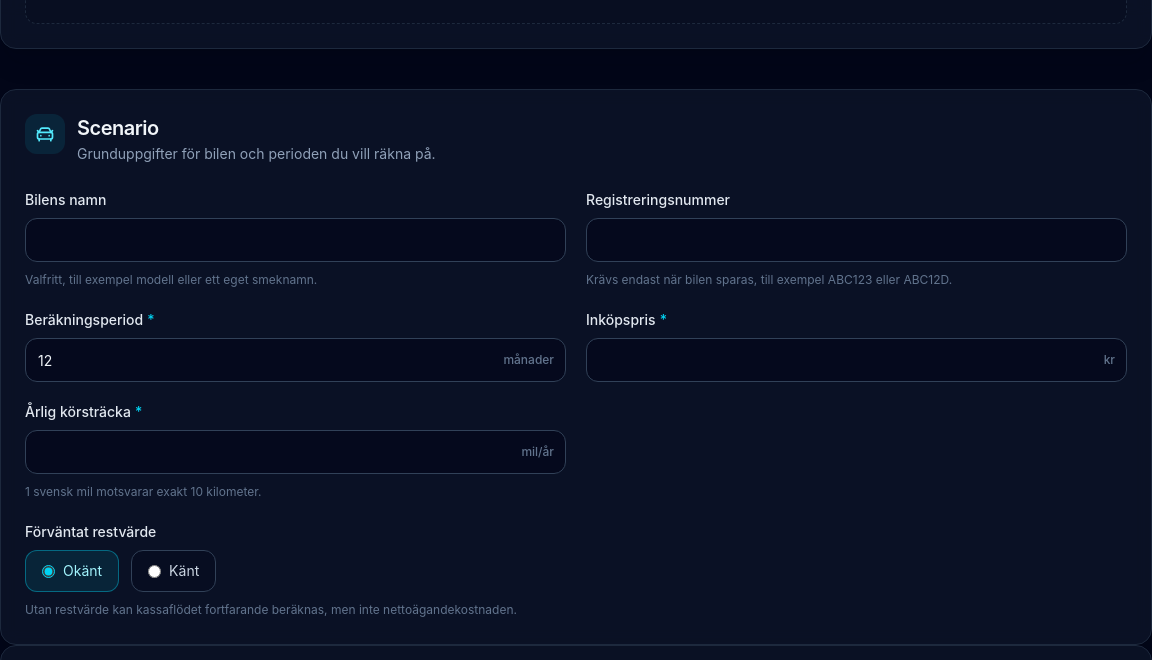
Test case: ManualCalculatorPage › sends explicit nulls and renders incomplete known subtotals
(page scrolled)
Step 1. Type "20000" into the field labelled "Inköpspris*" → [856, 360], box [586,338,1127,382]
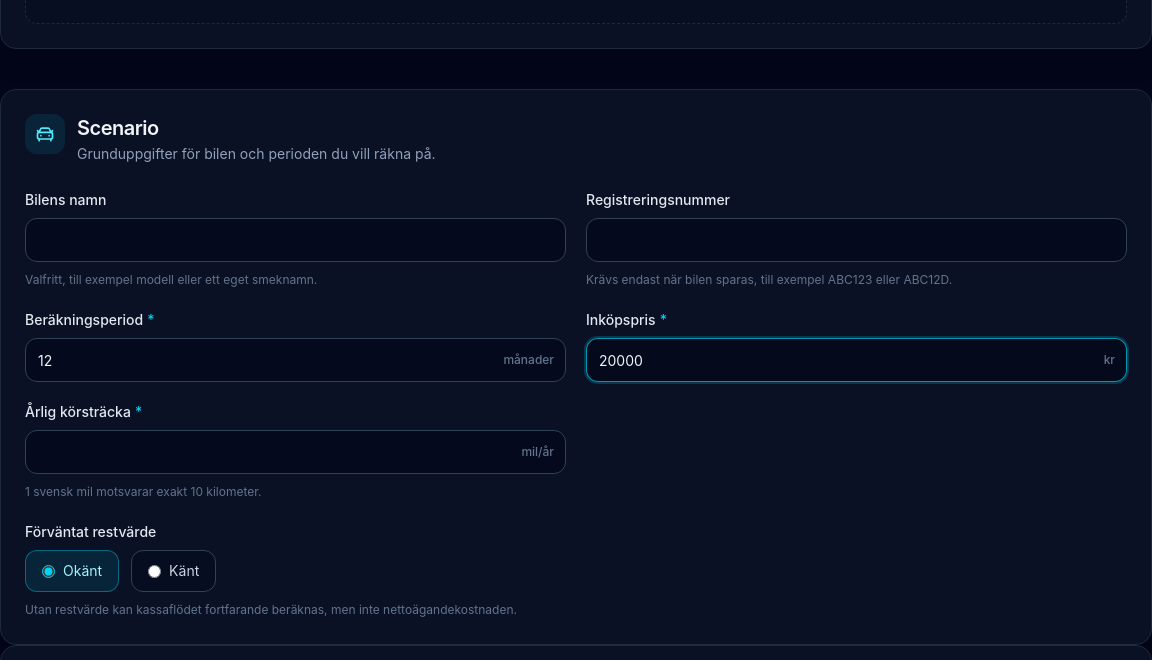
Step 2. Type "0" into the field labelled "Årlig körsträcka*" → [296, 452], box [25,430,566,474]
(page scrolled)
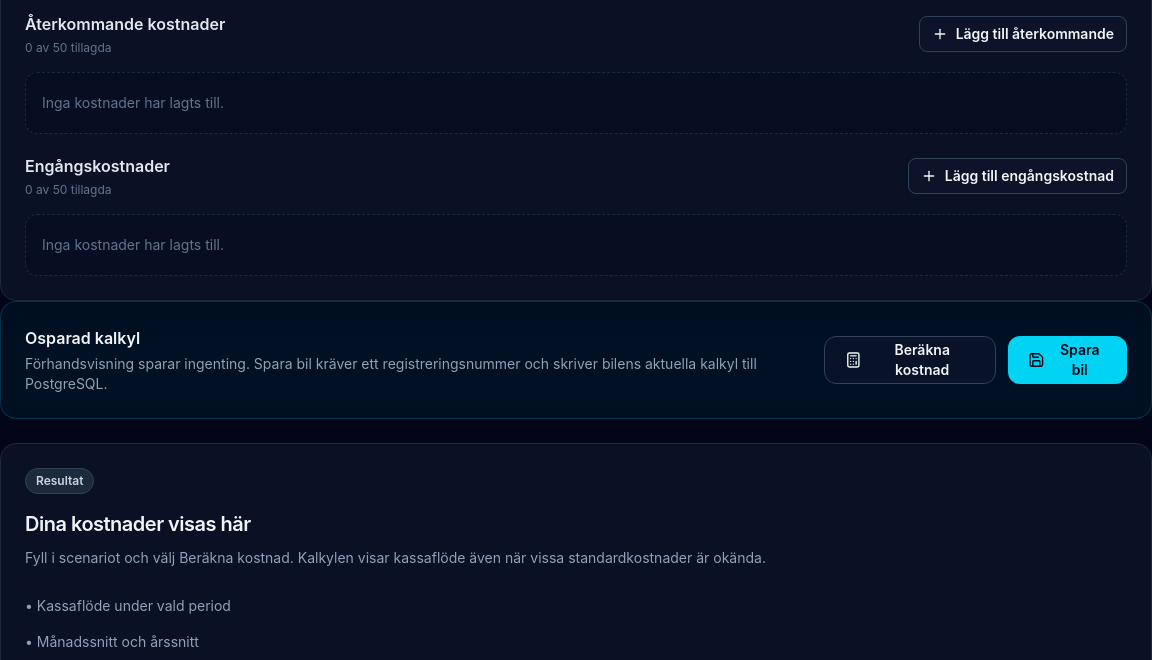
Step 3. Click the button "Beräkna kostnad" → [910, 360], box [824,336,996,384]
(page scrolled)
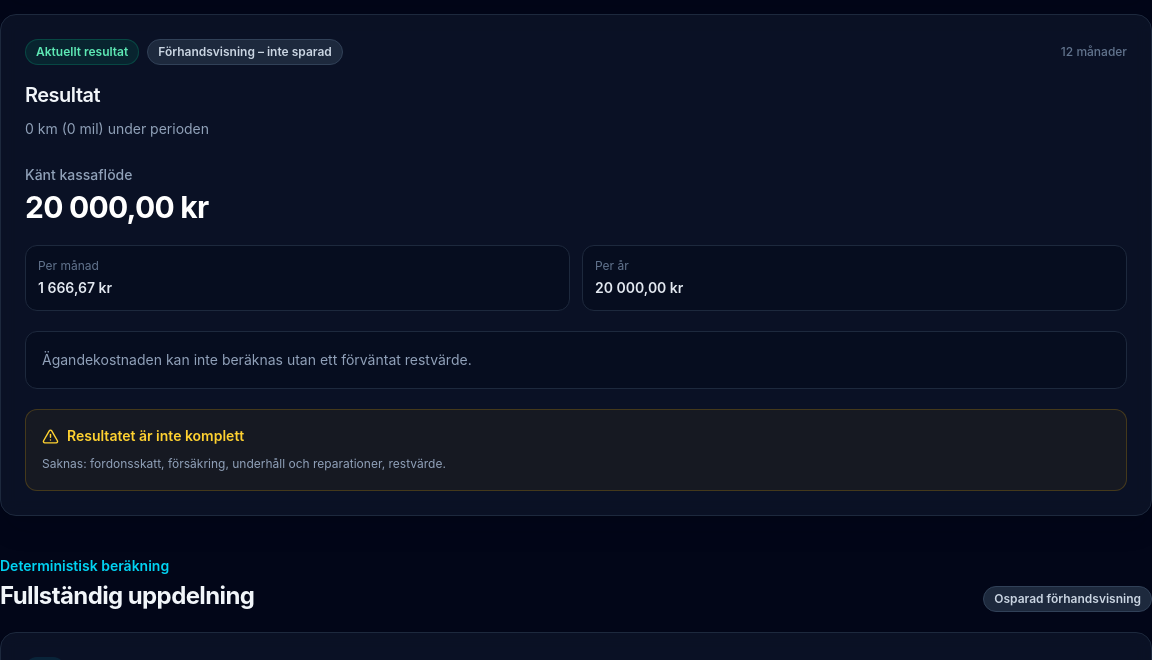
Expected: the text "Känt kassaflöde" is shown, [25,166,132,183]
Expected: the text "Saknas: fordonsskatt, försäkring, underhåll och reparationer, restvärde" is shown, [42,456,446,471]
Expected: the text "Ägandekostnaden kan inte beräknas utan ett förväntat restvärde" is shown, [42,351,472,368]
